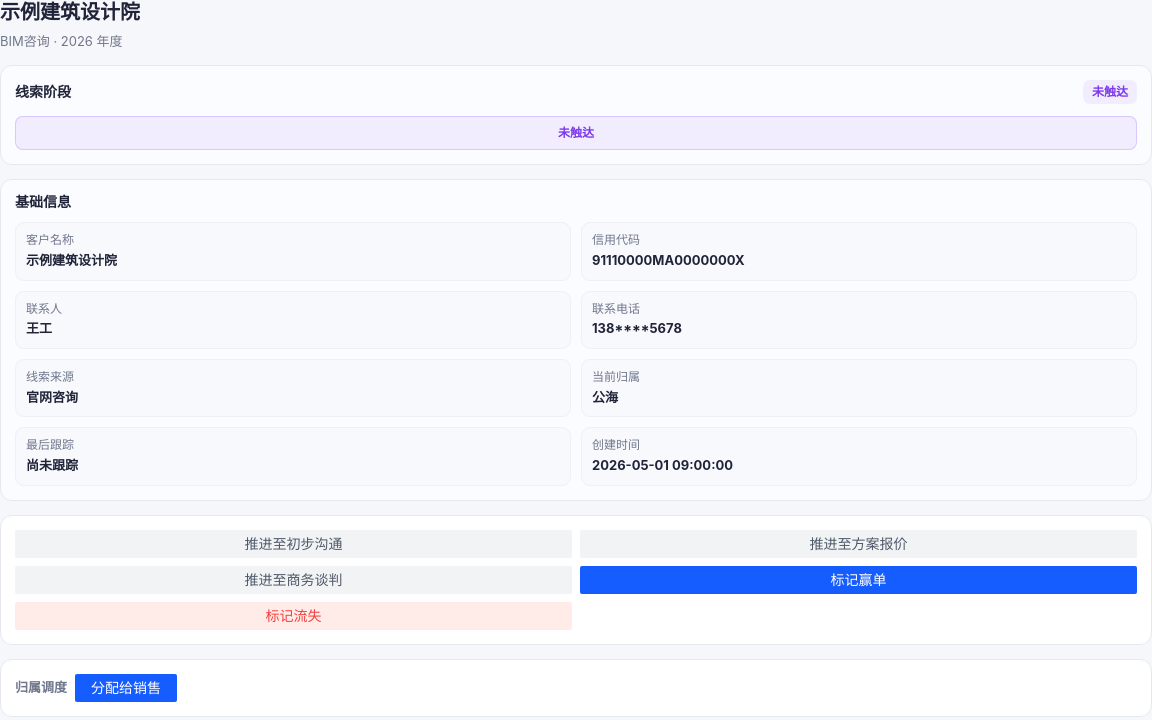
Scenario: Admin 归属操作区（spec：分配/回收/转移） › 分配候选仅含启用 Sales（排除 Admin 与停用）
The image size is (1152, 720).
Step 1. Click the button with class "assign-open" → x=126, y=688, box [75, 674, 177, 702]
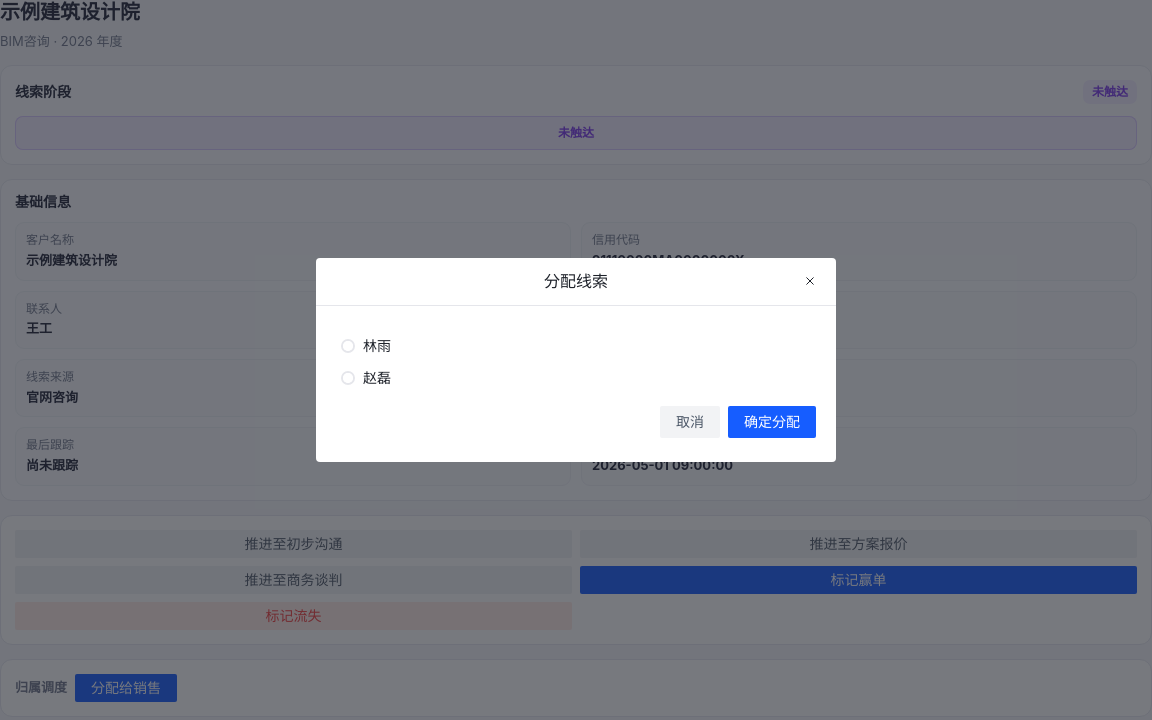
Check: the number of radio buttons with class "arco-radio" is 2, box [341, 337, 391, 354]; [341, 369, 391, 386]
Check: the element with class "assign-target" shows "林雨", box [363, 337, 391, 354]
Check: the element with class "assign-target" shows "赵磊", box [363, 369, 391, 386]
